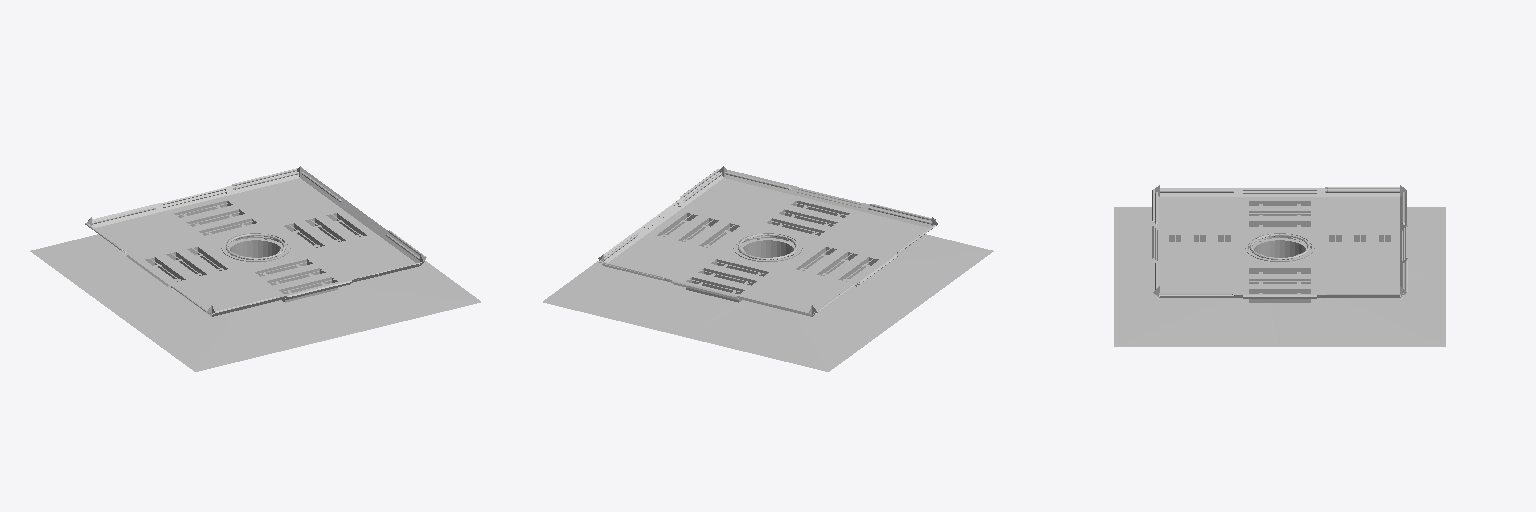
File: WallZero_mid.obj
The picture shows the model from 3 angles: view 1: azimuth 30°, elevation 25°; view 2: azimuth 150°, elevation 25°; view 3: azimuth 270°, elevation 25°; orthographic projection.
Parts seen in each view (by area): view 1: Wall_mid_Cube.010; view 2: Wall_mid_Cube.010; view 3: Wall_mid_Cube.010, PanelLight__mid_Cube.008.
Boxes of the visible parts, x1=… form: Wall_mid_Cube.010: x1=30, y1=166, x2=480, y2=371; Wall_mid_Cube.010: x1=543, y1=166, x2=993, y2=371; Wall_mid_Cube.010: x1=1114, y1=185, x2=1445, y2=346; PanelLight__mid_Cube.008: x1=1169, y1=244, x2=1390, y2=260.
Size of the model in its own units: 2.48 by 0.34 by 2.48.